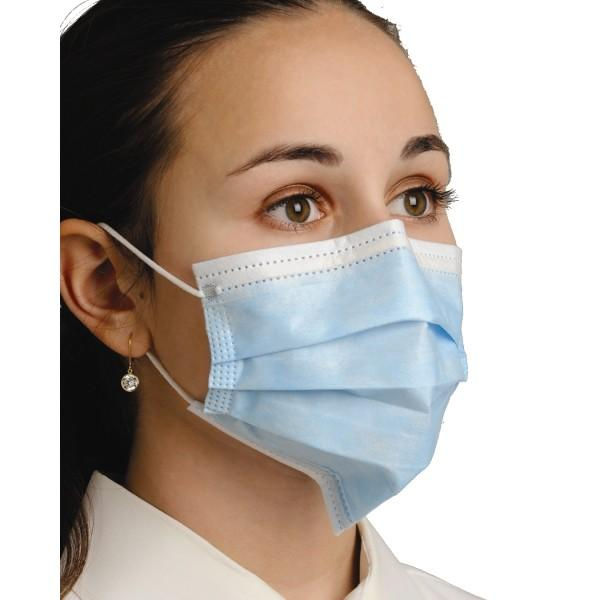Wearing Mask: (52, 0, 543, 600)
